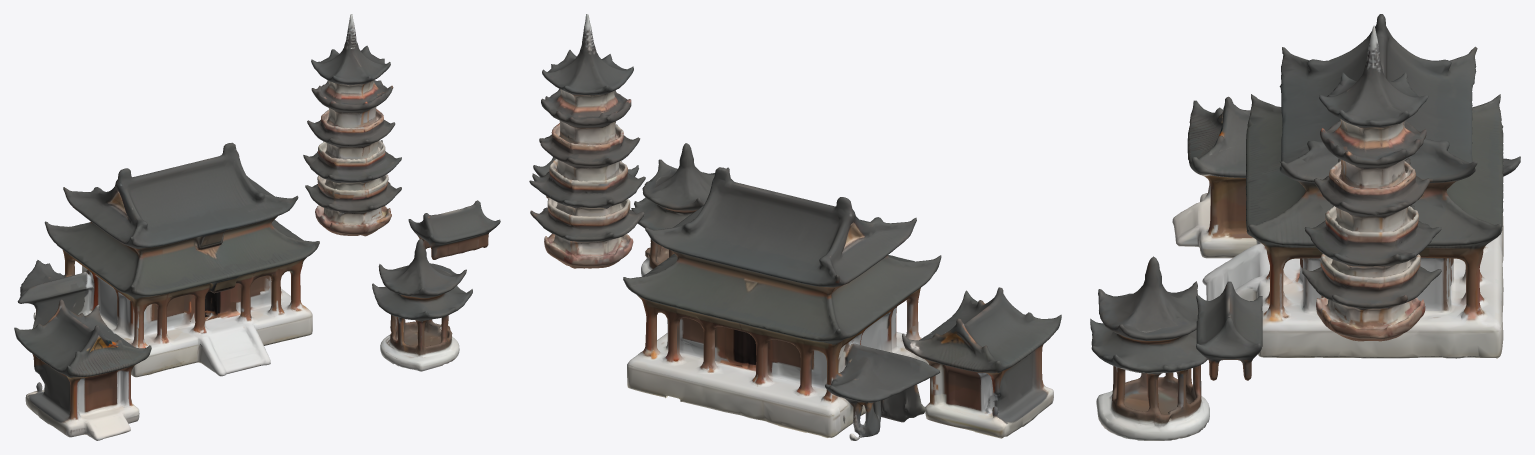
The picture shows the model from 3 angles, left to right: view 1: azimuth 30°, elevation 25°; view 2: azimuth 150°, elevation 25°; view 3: azimuth 270°, elevation 25°; orthographic projection. The views are drawn at different scales.
Visible parts, largest first — view 1: material.001; view 2: material.001; view 3: material.001.
Boxes of the visible parts, <box> form: material.001: <box>14,14,500,440</box>; material.001: <box>529,14,1061,440</box>; material.001: <box>1090,14,1520,440</box>.
Size of the model in its own units: 0.992 by 0.6476 by 0.5991.
1 material, 1 textured.
